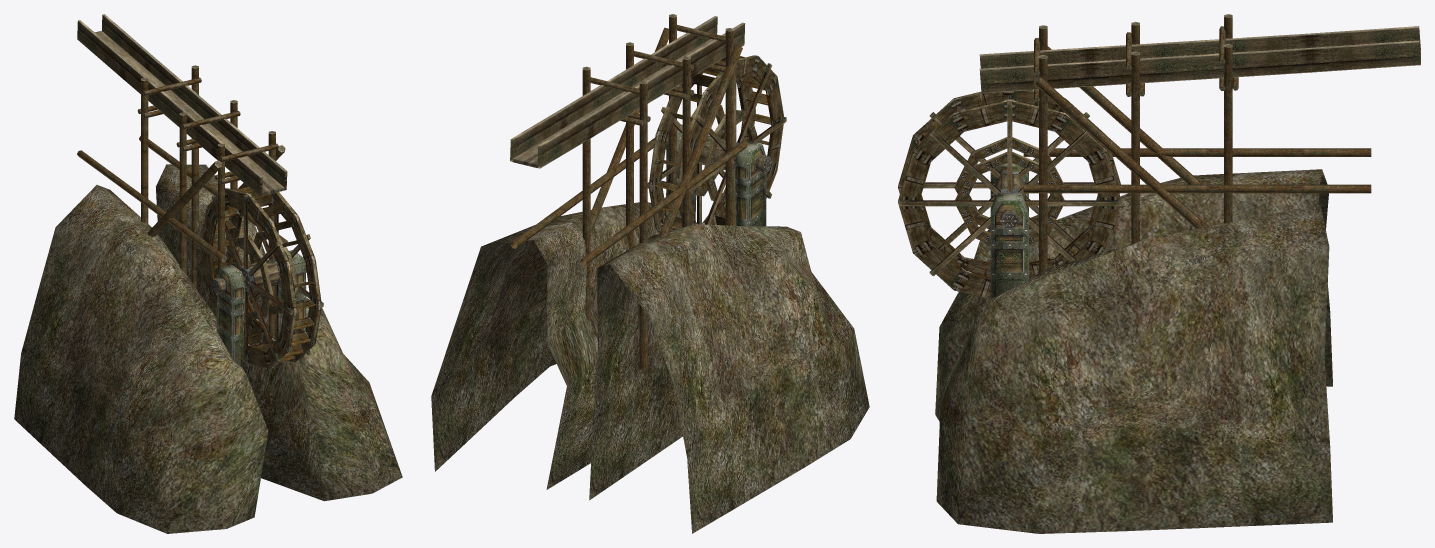
The model's file is general_obj_watermill_01.fbx.
The picture shows the model from 3 angles, left to right: view 1: azimuth 30°, elevation 25°; view 2: azimuth 150°, elevation 25°; view 3: azimuth 270°, elevation 25°; orthographic projection. The views are drawn at different scales.
Parts seen in each view (by area): view 1: general_obj_watermill2, general_obj_watermill1; view 2: general_obj_watermill2, general_obj_watermill1; view 3: general_obj_watermill2, general_obj_watermill1.
Boxes of the visible parts, left/top/right/bottom form: general_obj_watermill2: left=14, top=164, right=402, bottom=533; general_obj_watermill1: left=77, top=14, right=323, bottom=368; general_obj_watermill2: left=431, top=124, right=869, bottom=533; general_obj_watermill1: left=510, top=14, right=786, bottom=369; general_obj_watermill2: left=935, top=163, right=1332, bottom=533; general_obj_watermill1: left=898, top=14, right=1420, bottom=298.
Size of the model in its own units: 16.45 by 20.58 by 23.03.
